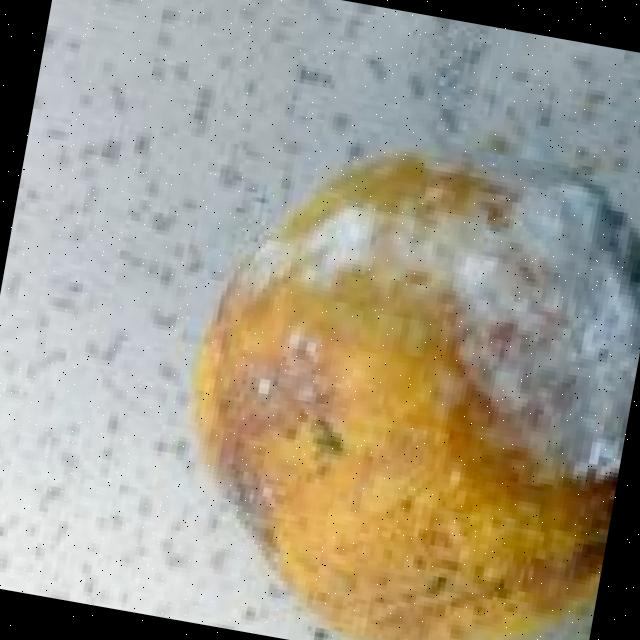Bad_Lime-0-1-day: (199, 145, 640, 640)
